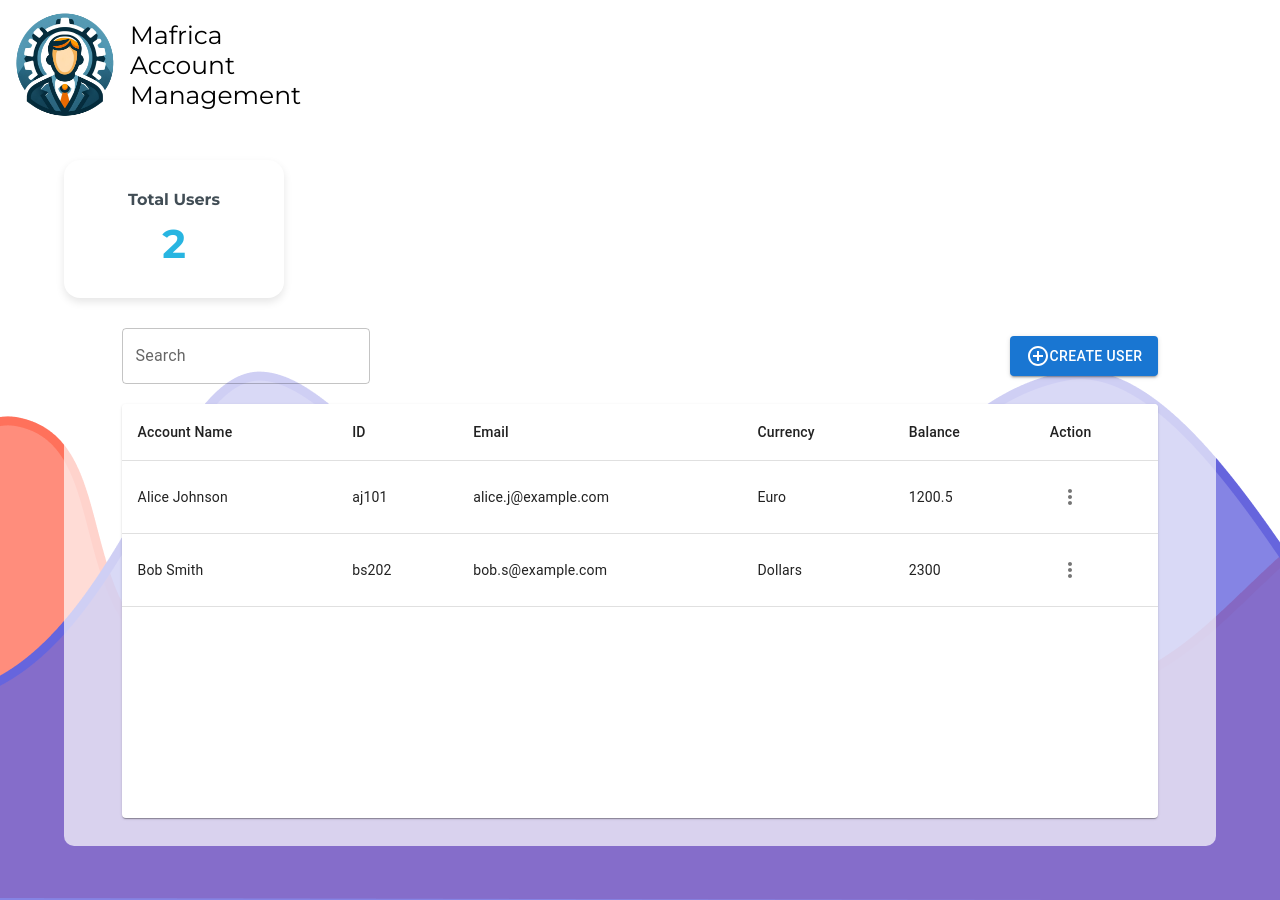
<App /> › should edit an existing user when submitted through modal
Expected: the text "Alice Johnson" is shown, [122, 461, 336, 534]
Click the button without text in the row of "Alice Johnson".
click(1070, 497)  # box [1050, 477, 1090, 517]
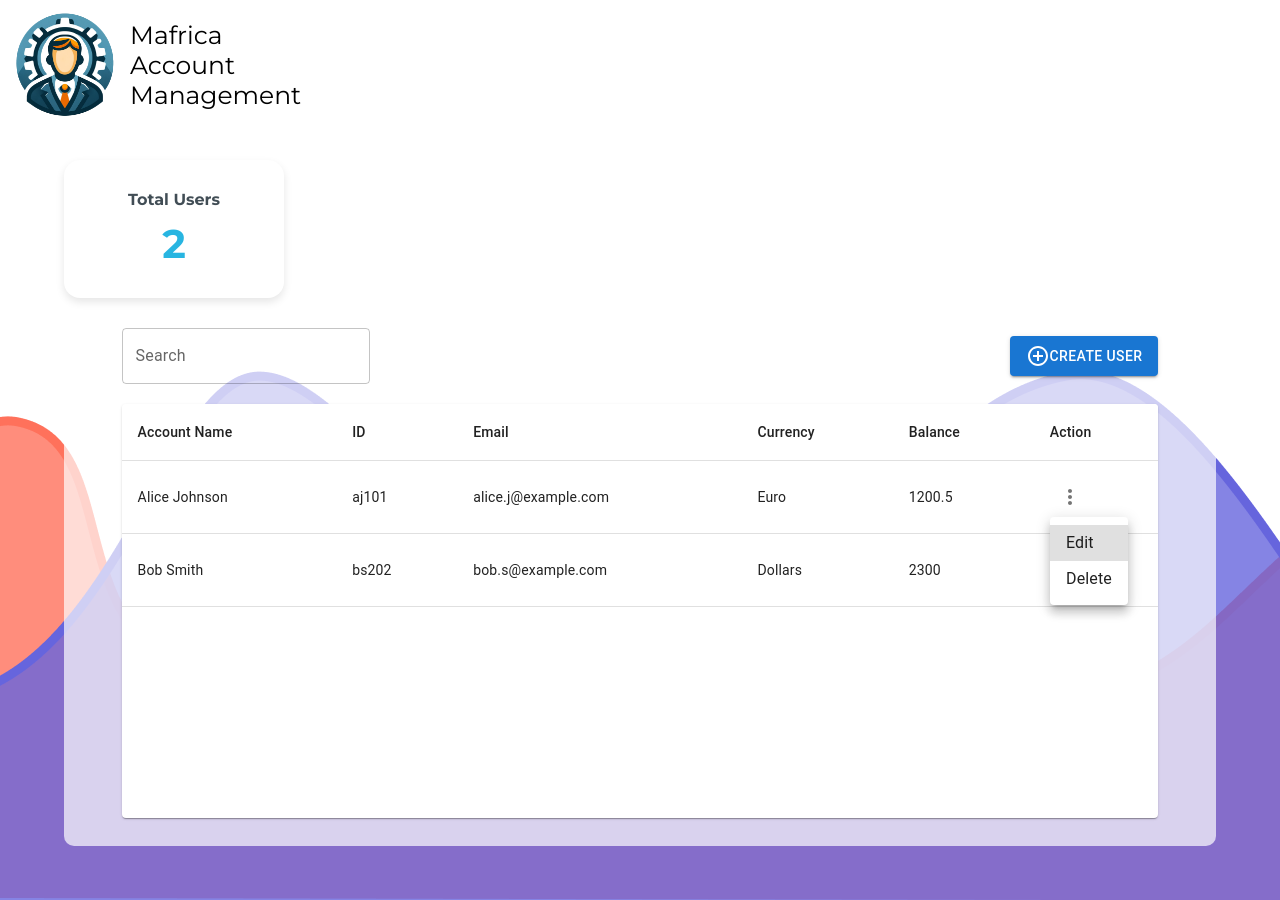
Expected: the element with test id "ActionMenuModal" is shown, [1050, 517, 1128, 605]
Click the menu item with test id "ActionMenuModalEditButton".
click(1089, 543)  # box [1050, 525, 1128, 561]
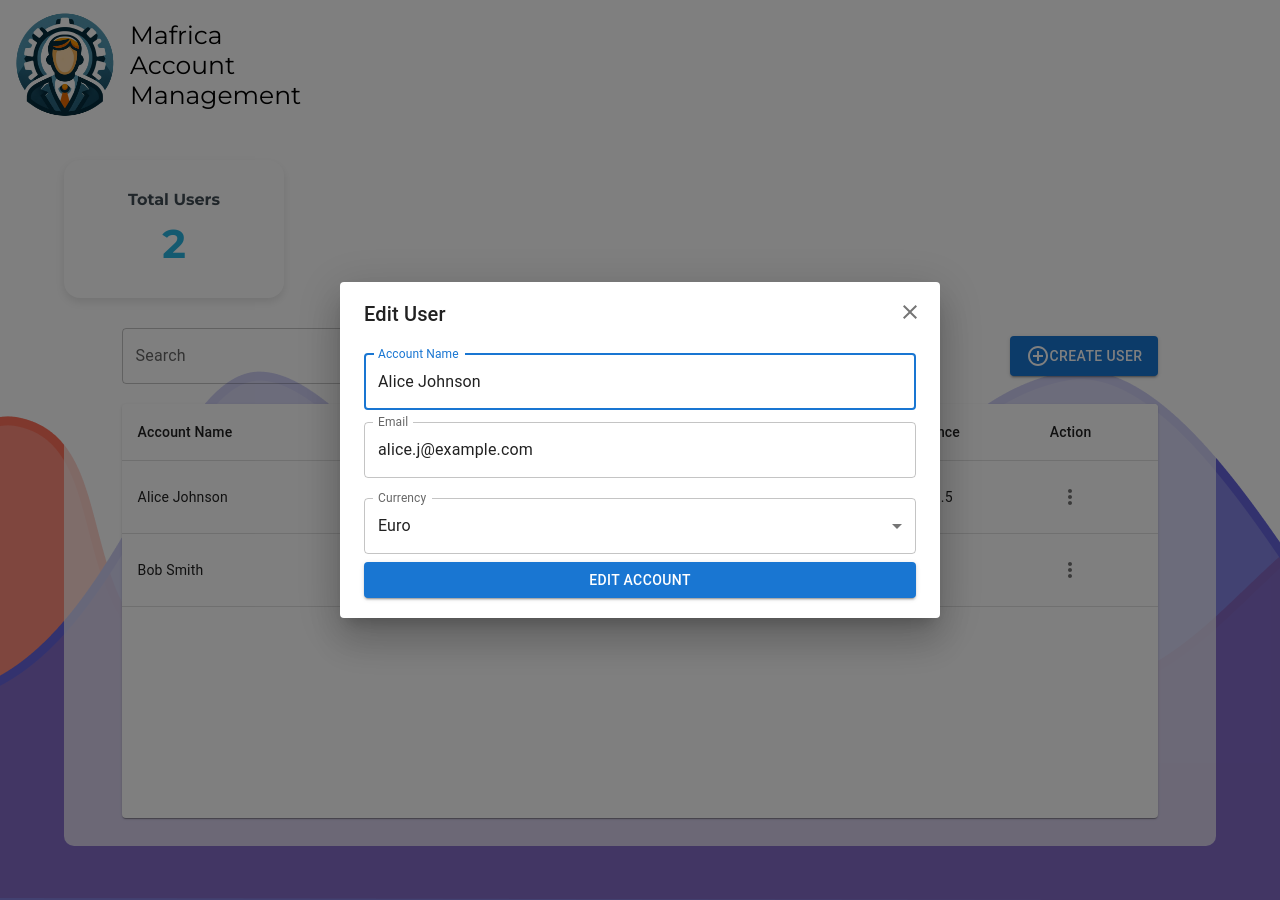
Expected: the element with test id "CreateEditUserModal" is shown
Replace the text in the field with test id "AccountNameField" with "Alice Brown" at (640, 382), box [364, 354, 916, 410]
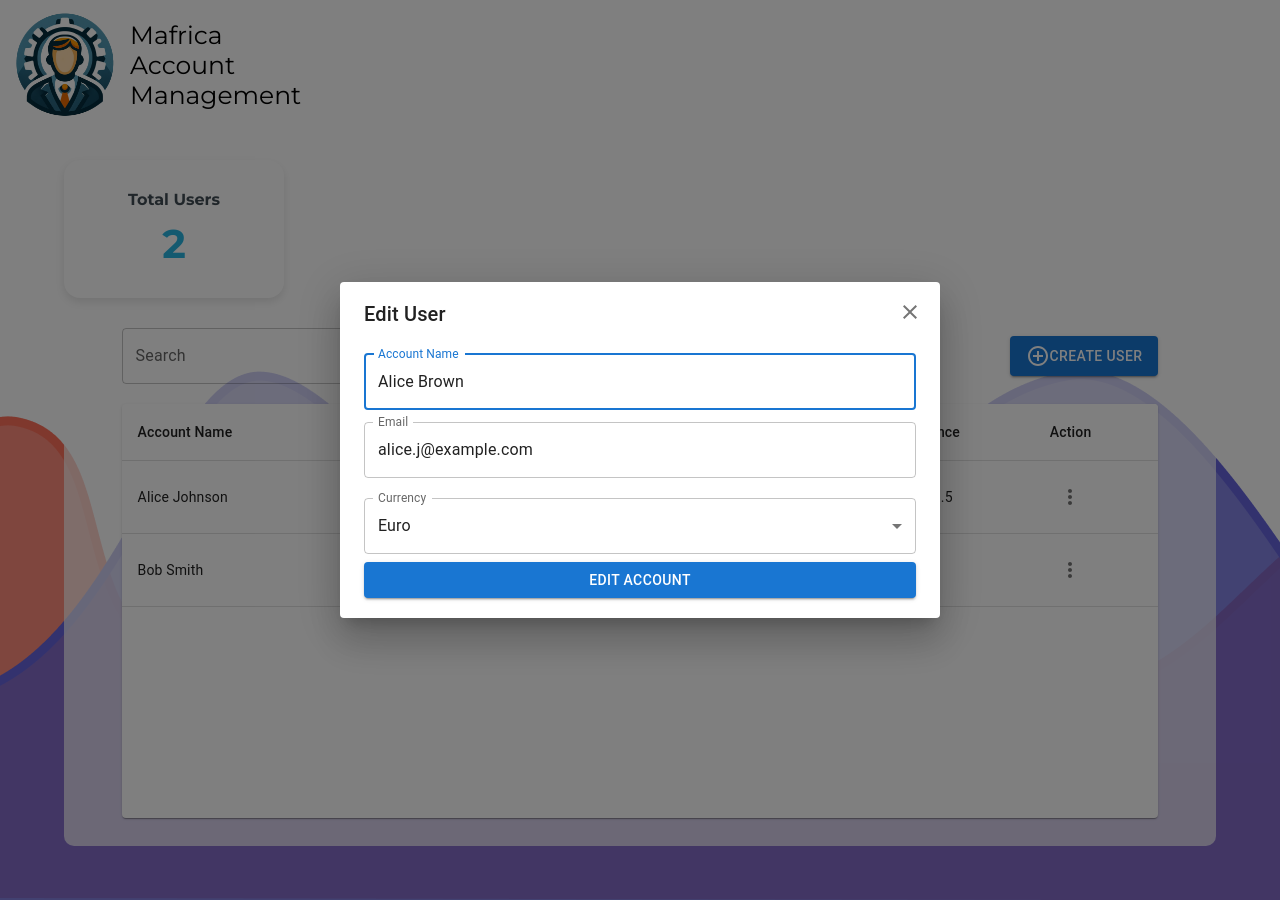
Replace the text in the field with test id "EmailField" with "alice.brown@example.com" at (640, 450), box [364, 422, 916, 478]
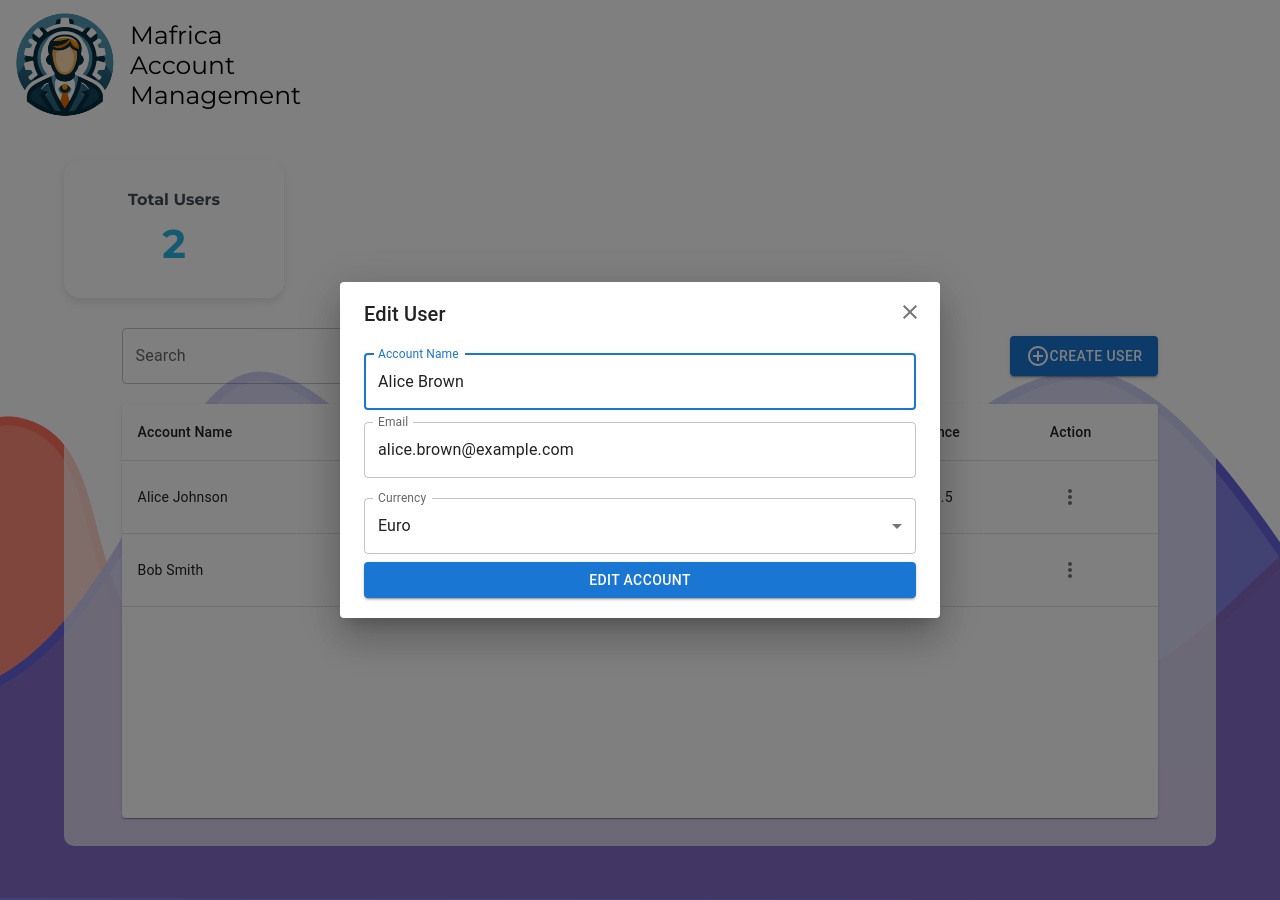
Click the button with test id "CreateEditSubmitButton".
click(640, 580)  # box [364, 562, 916, 598]
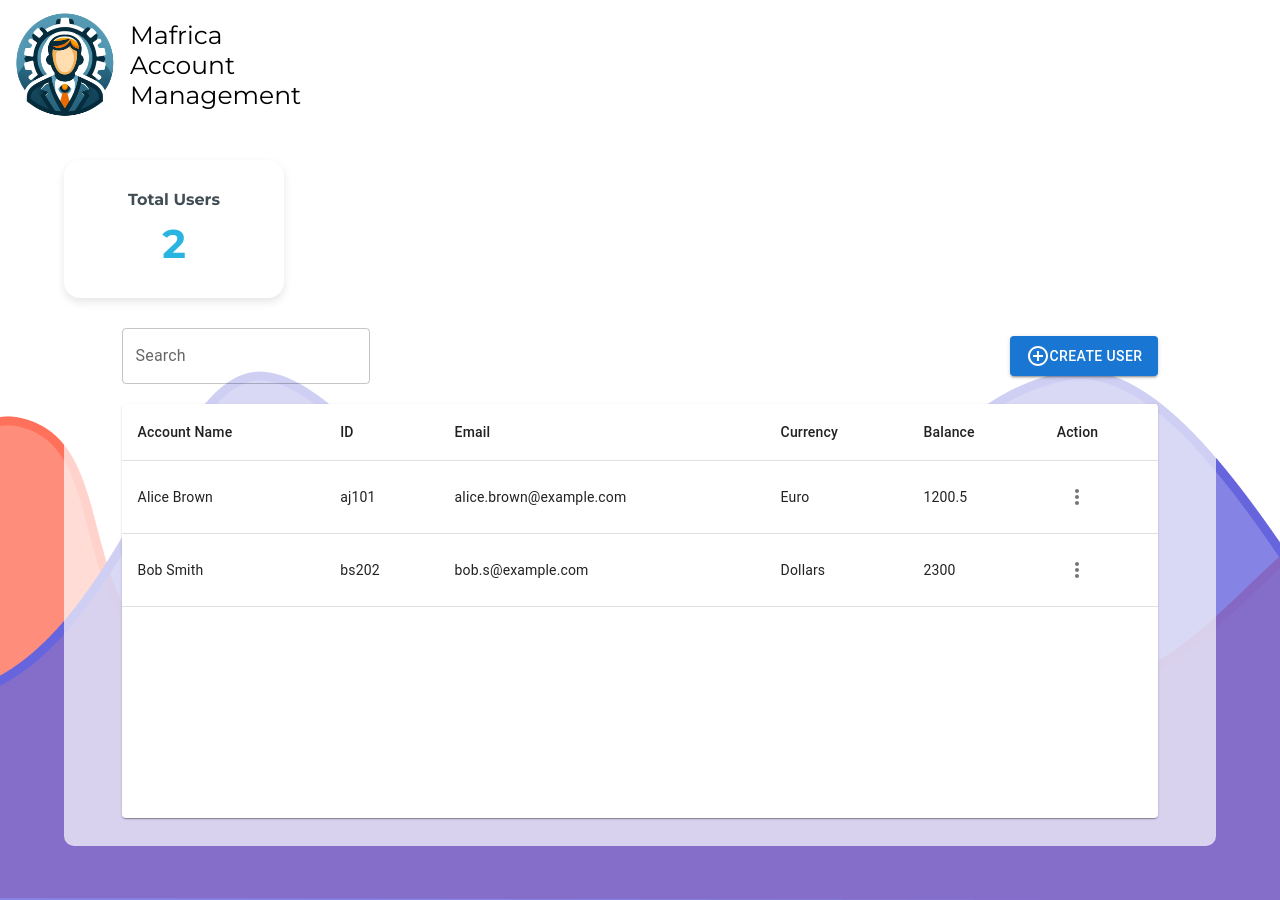
Expected: the text "Alice Johnson" is gone
Expected: the text "Alice Brown" is shown, [122, 461, 324, 534]
Expected: the text "alice.brown@example.com" is shown, [439, 461, 765, 534]
